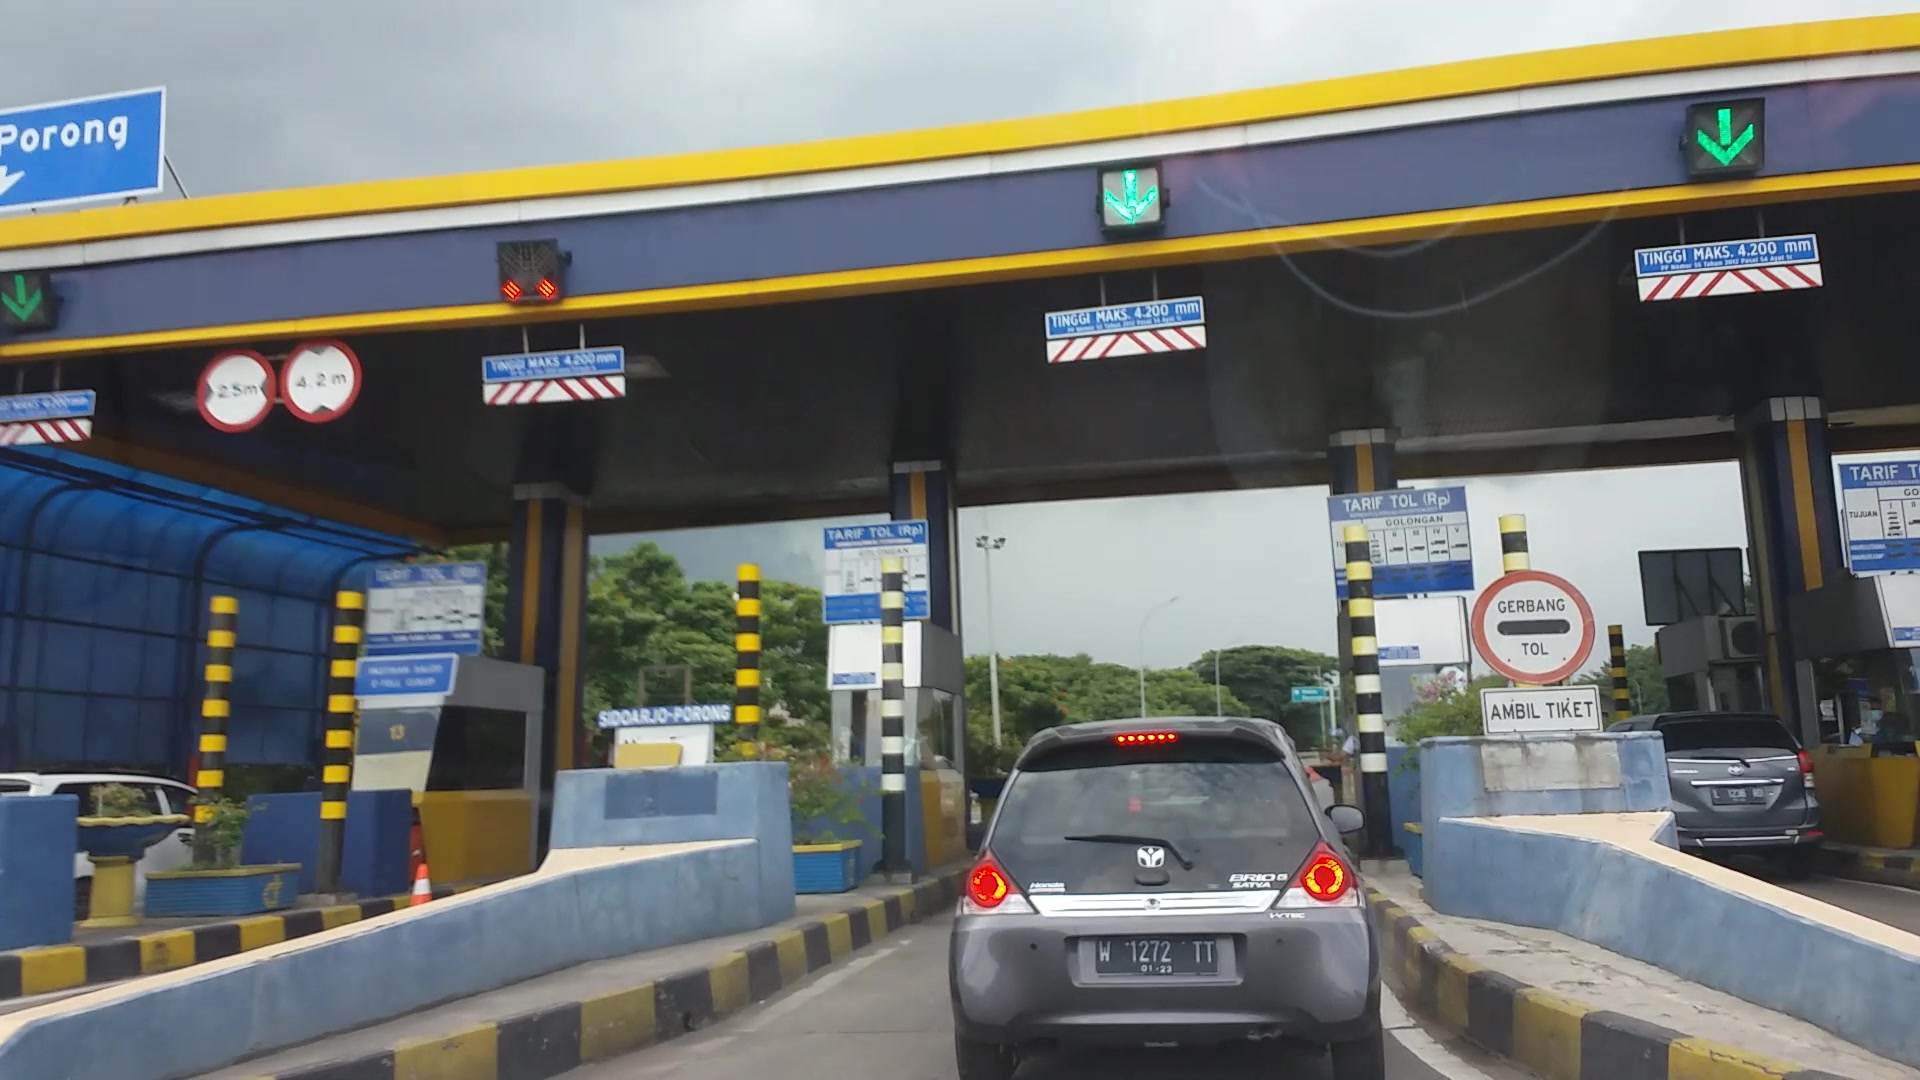plate_positive: (1095, 935, 1218, 975)
